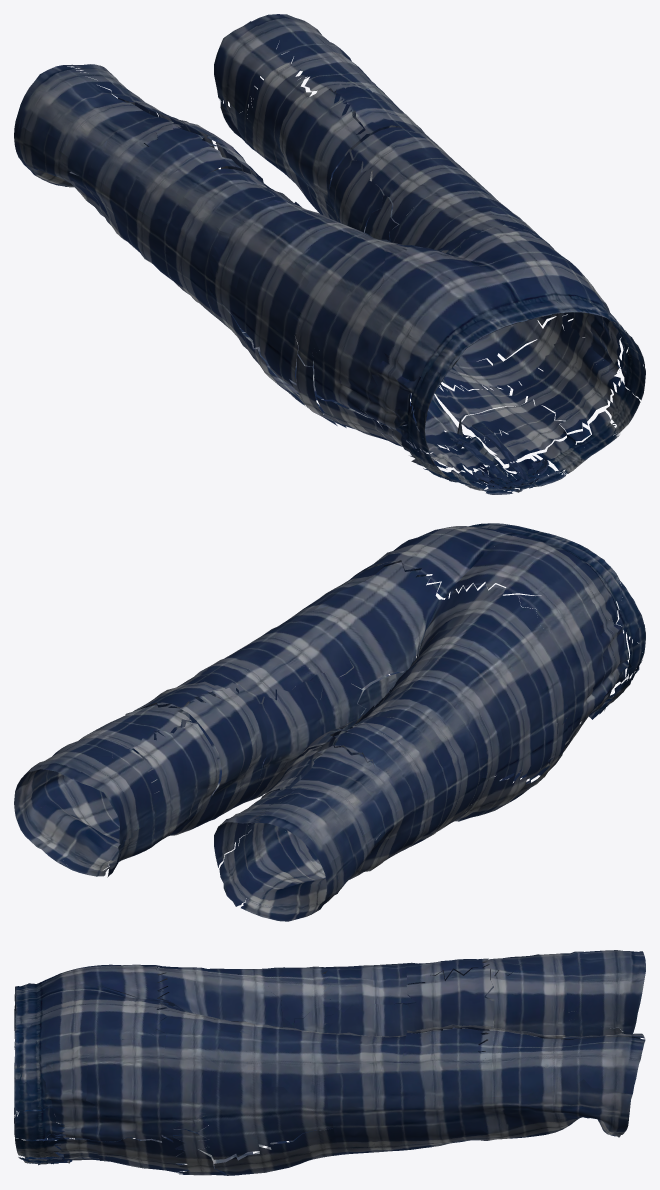
File: adult-base-01.mobile.glb
The picture shows the model from 3 angles, top to bottom: view 1: azimuth 30°, elevation 25°; view 2: azimuth 150°, elevation 25°; view 3: azimuth 270°, elevation 25°; orthographic projection. The views are drawn at different scales.
Parts seen in each view (by area): view 1: geometry_0; view 2: geometry_0; view 3: geometry_0.
Boxes of the visible parts, x1,y1,x2,y2 form: geometry_0: (14, 14, 645, 494); geometry_0: (14, 523, 645, 921); geometry_0: (14, 950, 645, 1175).
Size of the model in its own units: 0.0047 by 0.00287 by 0.00971.
Materials: 1 (1 with a texture image).
